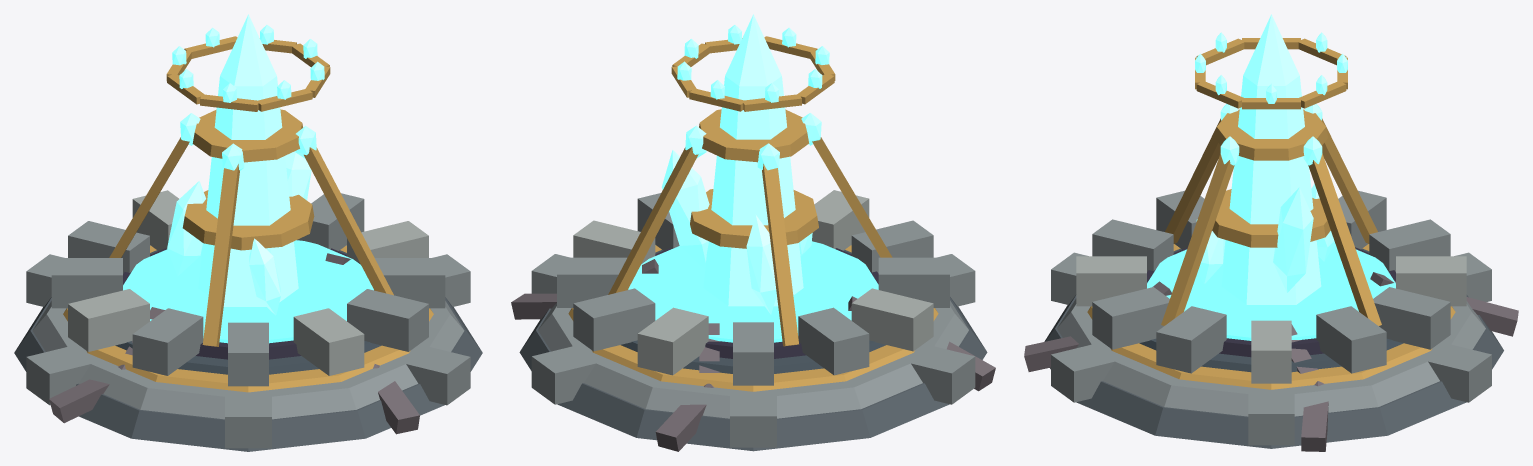
Rendered from wellspring_capped.glb.
3 renders of one model, left to right at view 1: azimuth 30°, elevation 25°; view 2: azimuth 150°, elevation 25°; view 3: azimuth 270°, elevation 25°, orthographic.
Parts seen in each view (by area): view 1: Wellspring_State_Anchor_Middle.001, Wellspring_State_Anchor_Lower.001, Capped_Crystal_Body, Capped_Basin_Liquid, Wellspring_State_Anchor_Inlay.001, Capped_Basin_Rim_7, Capped_Basin_Rim_11, Capped_Basin_Rim_10, Capped_Basin_Rim_8, Capped_Collar_Lower, Capped_Basin_Rim_6, Capped_Brace_3 (+27 smaller); view 2: Wellspring_State_Anchor_Middle.001, Wellspring_State_Anchor_Lower.001, Capped_Crystal_Body, Capped_Basin_Liquid, Wellspring_State_Anchor_Inlay.001, Capped_Basin_Rim_7, Capped_Basin_Rim_3, Capped_Basin_Rim_6, Capped_Basin_Rim_4, Capped_Basin_Rim_8, Capped_Brace_2, Capped_Collar_Lower (+27 smaller); view 3: Wellspring_State_Anchor_Middle.001, Capped_Crystal_Body, Wellspring_State_Anchor_Lower.001, Capped_Basin_Liquid, Wellspring_State_Anchor_Inlay.001, Capped_Basin_Rim_3, Capped_Basin_Rim_11, Capped_Basin_Rim_2, Capped_Basin_Rim_12, Capped_Brace_1, Capped_Brace_4, Capped_Basin_Rim_4 (+27 smaller).
Boxes of the visible parts, <box> form: Wellspring_State_Anchor_Middle.001: <box>32,245,464,419</box>; Wellspring_State_Anchor_Lower.001: <box>14,297,482,451</box>; Capped_Crystal_Body: <box>198,76,298,306</box>; Capped_Basin_Liquid: <box>123,240,373,343</box>; Wellspring_State_Anchor_Inlay.001: <box>63,245,433,392</box>; Capped_Basin_Rim_7: <box>68,289,149,351</box>; Capped_Basin_Rim_11: <box>347,289,428,351</box>; Capped_Basin_Rim_10: <box>293,308,364,375</box>; Capped_Basin_Rim_8: <box>132,308,203,375</box>; Capped_Collar_Lower: <box>182,190,314,250</box>; Capped_Basin_Rim_6: <box>51,258,122,308</box>; Capped_Brace_3: <box>202,164,239,346</box>; Wellspring_State_Anchor_Middle.001: <box>538,245,968,418</box>; Wellspring_State_Anchor_Lower.001: <box>519,297,987,451</box>; Capped_Crystal_Body: <box>703,76,803,306</box>; Capped_Basin_Liquid: <box>628,241,878,342</box>; Wellspring_State_Anchor_Inlay.001: <box>568,245,938,391</box>; Capped_Basin_Rim_7: <box>851,288,933,351</box>; Capped_Basin_Rim_3: <box>573,288,655,351</box>; Capped_Basin_Rim_6: <box>798,307,869,375</box>; Capped_Basin_Rim_4: <box>637,307,708,375</box>; Capped_Basin_Rim_8: <box>878,257,949,307</box>; Capped_Brace_2: <box>762,163,798,346</box>; Capped_Collar_Lower: <box>690,189,818,248</box>; Wellspring_State_Anchor_Middle.001: <box>1057,298,1485,416</box>; Capped_Crystal_Body: <box>1221,75,1321,304</box>; Wellspring_State_Anchor_Lower.001: <box>1044,295,1503,448</box>; Capped_Basin_Liquid: <box>1147,240,1395,340</box>; Wellspring_State_Anchor_Inlay.001: <box>1087,244,1455,389</box>; Capped_Basin_Rim_3: <box>1373,287,1450,349</box>; Capped_Basin_Rim_11: <box>1092,287,1169,349</box>; Capped_Basin_Rim_2: <box>1316,306,1386,373</box>; Capped_Basin_Rim_12: <box>1156,306,1226,373</box>; Capped_Brace_1: <box>1308,153,1381,325</box>; Capped_Brace_4: <box>1161,153,1234,325</box>; Capped_Basin_Rim_4: <box>1396,256,1466,306</box>.
Size of the model in its own units: 4.89 by 3.67 by 4.89.
